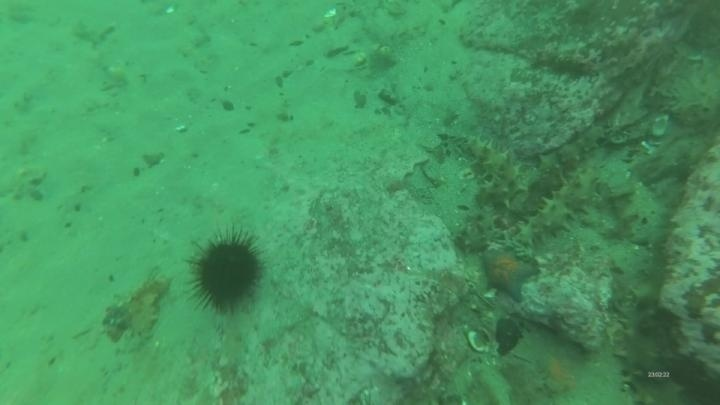echinus: (186, 228, 267, 314)
holothurian: (612, 282, 679, 403), (516, 165, 603, 248), (502, 141, 584, 209), (460, 133, 526, 210), (450, 196, 495, 254)
starfish: (477, 246, 539, 302)
